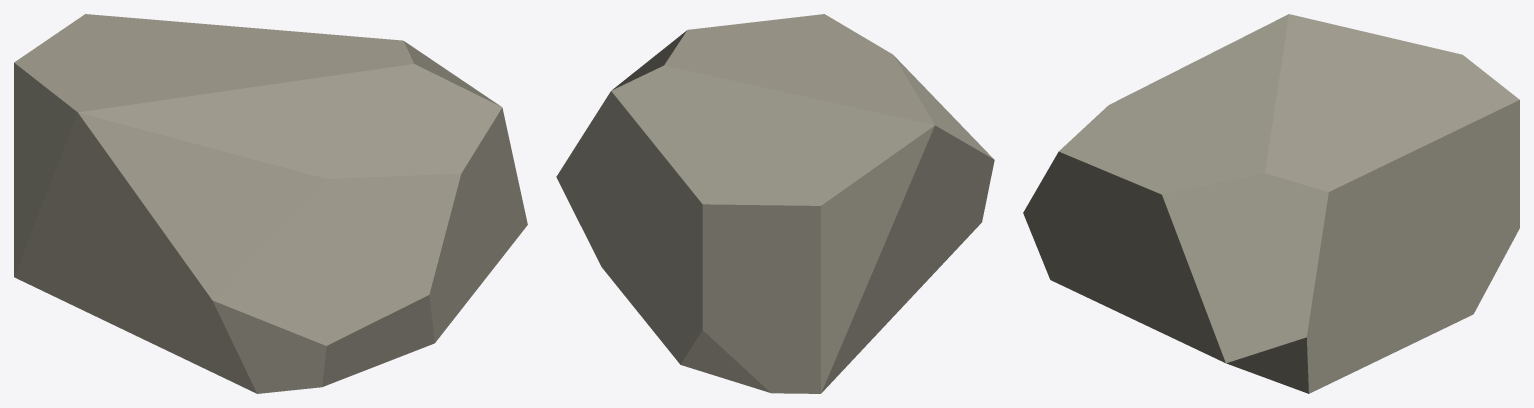
The model's file is Rock5_tex.fbx.
3 views of the same model, side by side, from view 1: azimuth 30°, elevation 25°; view 2: azimuth 150°, elevation 25°; view 3: azimuth 270°, elevation 25° (orthographic). The views are drawn at different scales.
Parts seen in each view (by area): view 1: Rock5_tex; view 2: Rock5_tex; view 3: Rock5_tex.
Boxes of the visible parts, box(x1,y1,x2,y2) form: Rock5_tex: box(14, 14, 527, 393); Rock5_tex: box(556, 14, 994, 393); Rock5_tex: box(1023, 14, 1519, 393).
Bounding box in the file's own units: 0.5389 × 0.2972 × 0.6127.
